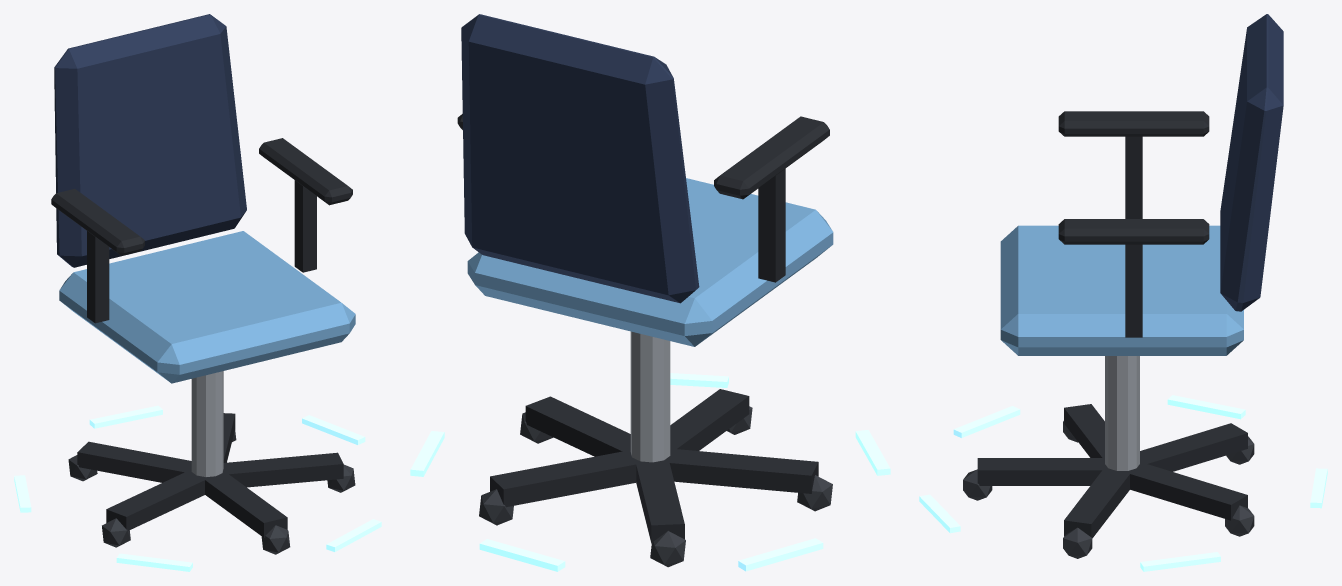
File: chair_p1_3.glb
3 renders of one model, left to right at view 1: azimuth 30°, elevation 25°; view 2: azimuth 150°, elevation 25°; view 3: azimuth 270°, elevation 25°, orthographic. The views are drawn at different scales.
Parts seen in each view (by area): view 1: chair_p1_3_mesh; view 2: chair_p1_3_mesh; view 3: chair_p1_3_mesh.
Part boxes in pixels (bbox=[...]): chair_p1_3_mesh: bbox=[14, 14, 381, 571]; chair_p1_3_mesh: bbox=[410, 14, 890, 571]; chair_p1_3_mesh: bbox=[919, 14, 1327, 571].
Bounding box in the file's own units: 0.7014 × 0.8572 × 0.7046.
